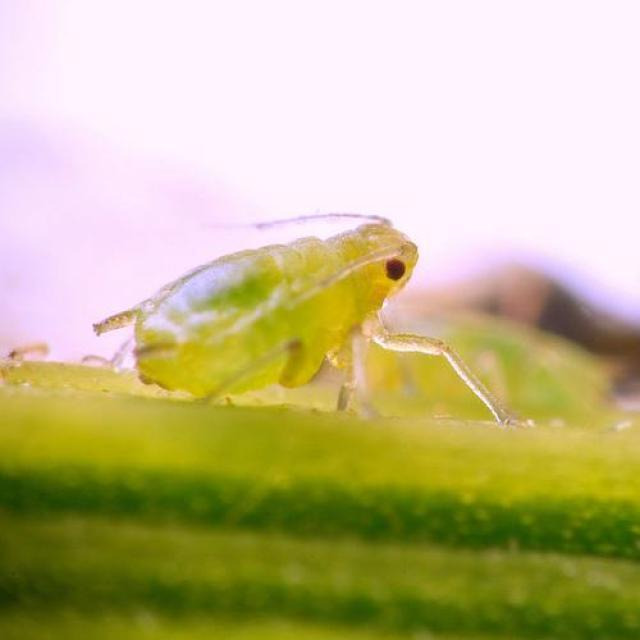aphid: (70, 175, 538, 462)
